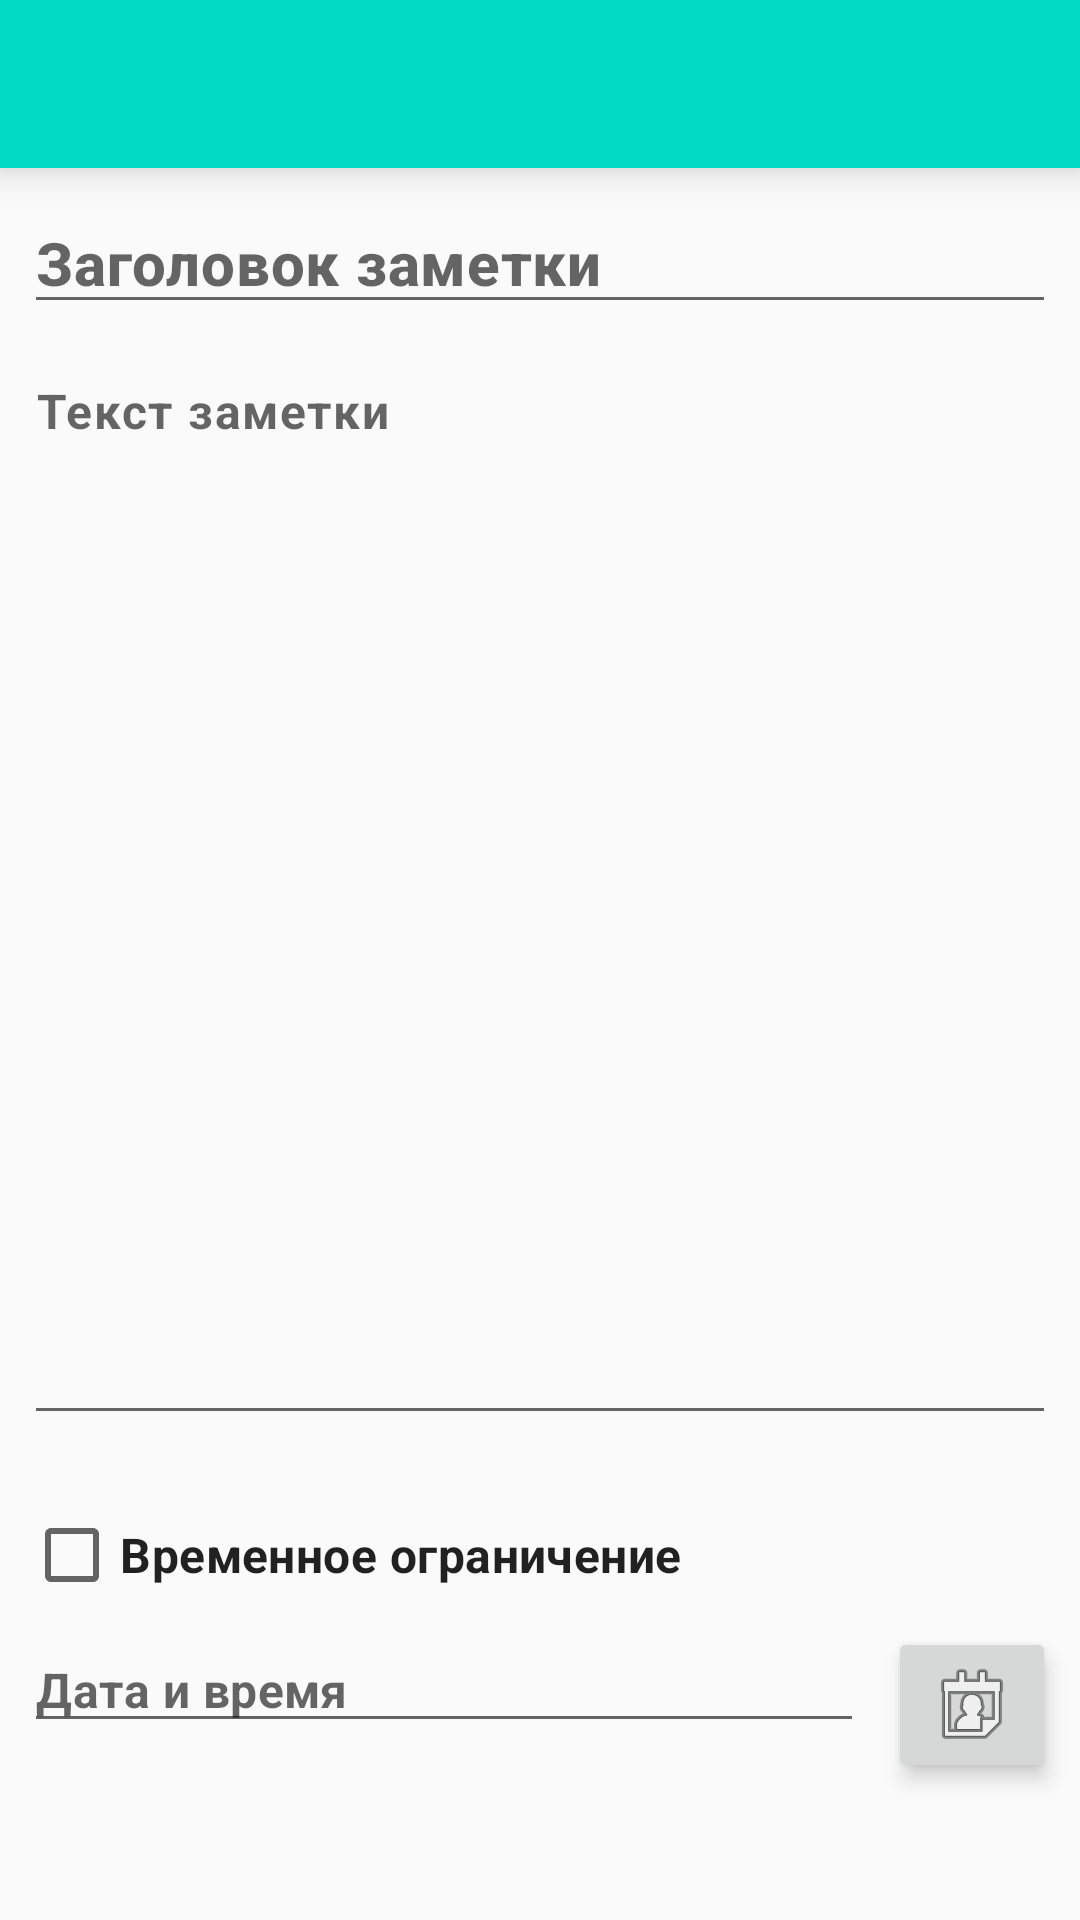

Icons on this 1080px x 1920px Android screen, each with the point to tap as [x,y]:
Открыть календарь: [973,1710]
